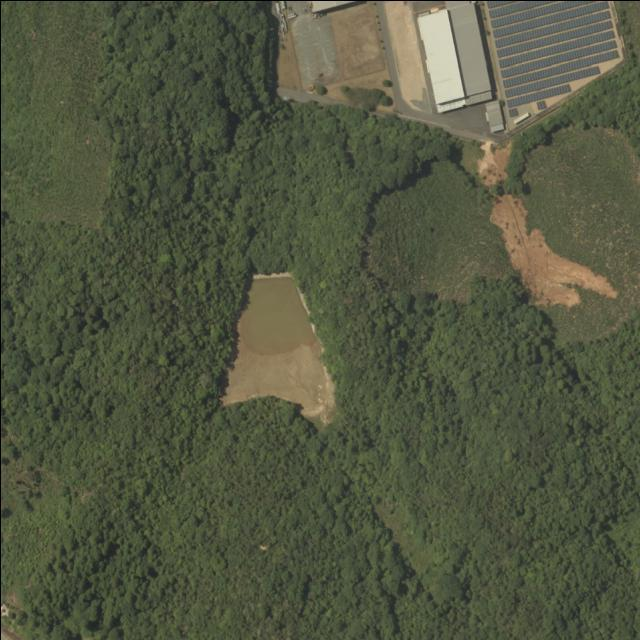landslide: (477, 143, 616, 307)
